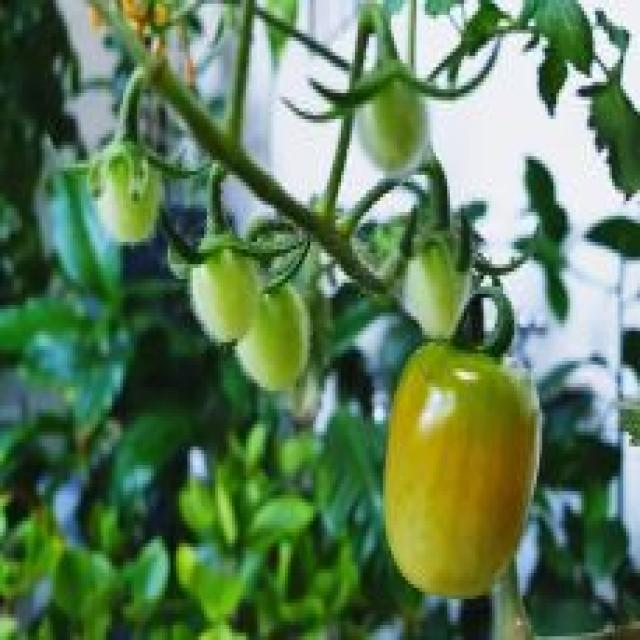level 2: (217, 268, 319, 404), (344, 64, 436, 189), (78, 141, 163, 259), (173, 247, 271, 348), (395, 224, 472, 340)
level 3: (378, 324, 556, 624)
